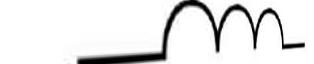inductor: (152, 0, 294, 62)
